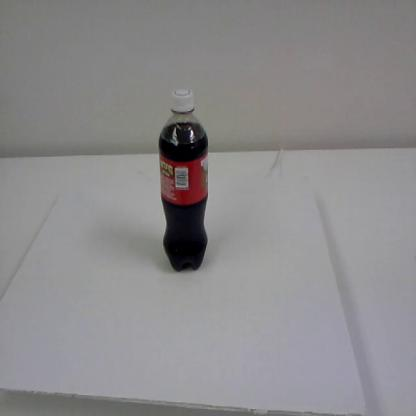bottle: (158, 86, 209, 274)
